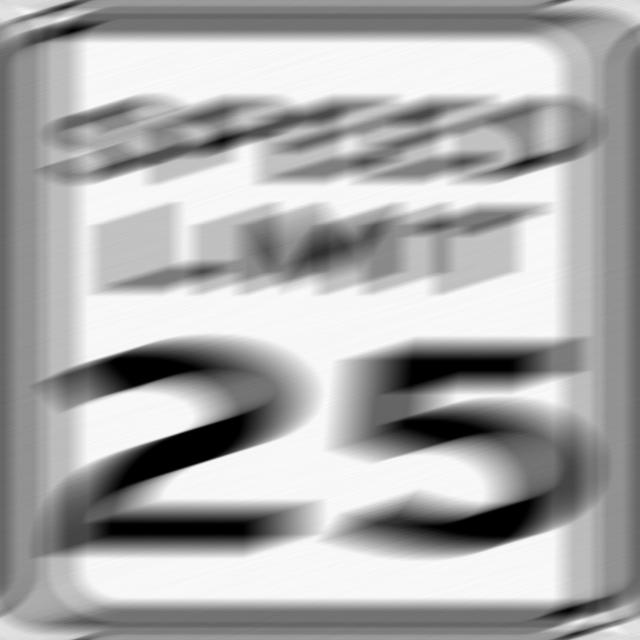speedLimit25: (0, 4, 640, 632)
